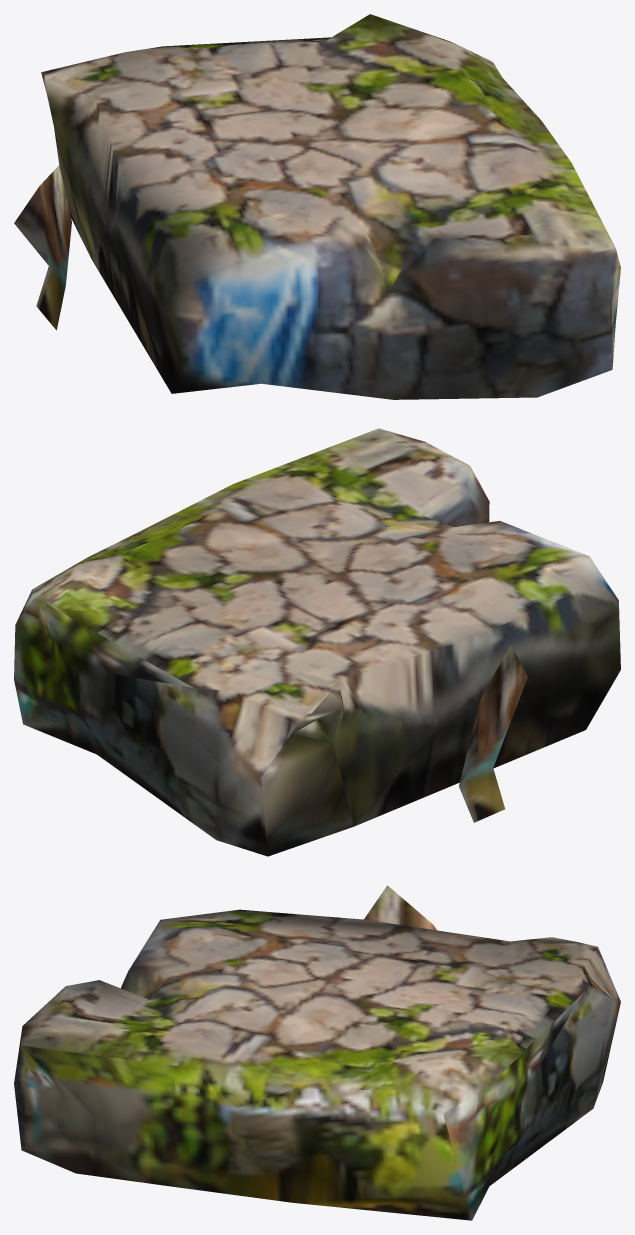
File: CoastalCliff_Floor.fbx
3 renders of one model, top to bottom at view 1: azimuth 30°, elevation 25°; view 2: azimuth 150°, elevation 25°; view 3: azimuth 270°, elevation 25°, orthographic. The views are drawn at different scales.
Visible parts, largest first — view 1: CoastalCliff_Floor_Mesh; view 2: CoastalCliff_Floor_Mesh; view 3: CoastalCliff_Floor_Mesh.
Boxes of the visible parts, bbox=[...] form: CoastalCliff_Floor_Mesh: bbox=[14, 14, 620, 399]; CoastalCliff_Floor_Mesh: bbox=[14, 428, 620, 856]; CoastalCliff_Floor_Mesh: bbox=[14, 885, 620, 1220].
Bounding box in the file's own units: 6 × 2.03 × 7.55.
1 material, 1 textured.
